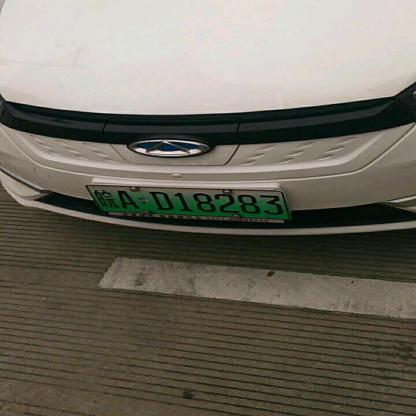lp: (84, 184, 288, 218)
